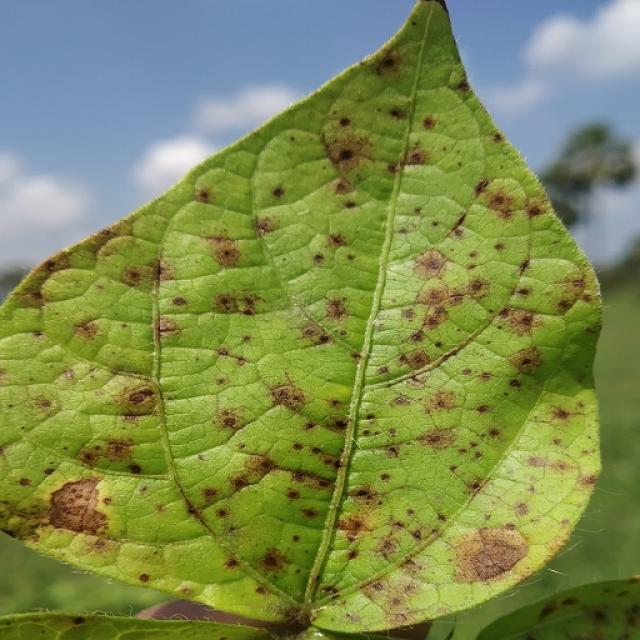Anthracnose: (544, 278, 603, 390), (497, 450, 585, 518), (43, 471, 122, 543), (450, 526, 529, 582), (510, 258, 588, 314), (13, 245, 86, 298), (363, 569, 432, 620), (268, 392, 336, 433), (148, 244, 165, 401), (324, 125, 375, 173), (264, 372, 313, 417), (204, 235, 245, 268), (275, 606, 320, 635), (212, 291, 263, 316), (414, 425, 461, 451), (507, 345, 544, 375), (482, 187, 520, 216), (421, 388, 460, 413), (412, 249, 448, 276), (120, 263, 156, 289), (400, 348, 434, 371), (213, 407, 245, 431), (103, 440, 133, 463), (71, 319, 100, 342), (322, 298, 349, 322), (336, 513, 365, 535), (127, 387, 155, 408), (446, 210, 468, 236), (419, 0, 450, 16), (377, 54, 400, 75), (299, 324, 324, 342), (1, 521, 22, 542), (253, 215, 275, 235), (404, 148, 428, 166), (332, 177, 356, 195), (156, 317, 178, 334), (623, 606, 639, 627), (216, 346, 238, 360), (327, 232, 346, 248), (540, 603, 559, 619), (261, 554, 281, 569), (525, 202, 545, 217), (194, 187, 212, 203), (551, 407, 572, 420), (526, 456, 548, 468), (352, 487, 373, 498), (422, 115, 437, 130), (514, 502, 529, 516), (392, 395, 411, 406), (388, 107, 404, 120), (171, 296, 188, 308), (476, 179, 490, 193), (469, 280, 485, 292), (321, 585, 338, 596), (127, 463, 142, 475), (344, 613, 359, 623), (18, 477, 32, 487), (508, 378, 522, 388), (272, 187, 284, 198), (338, 117, 351, 127), (162, 391, 175, 401), (313, 253, 324, 264), (344, 198, 356, 208), (72, 616, 85, 625), (216, 376, 227, 386), (350, 350, 361, 360), (180, 586, 192, 595), (380, 473, 391, 482), (374, 320, 384, 329), (335, 459, 344, 468), (525, 635, 539, 640), (411, 21, 417, 27)
Blackgram: (0, 0, 601, 636)
